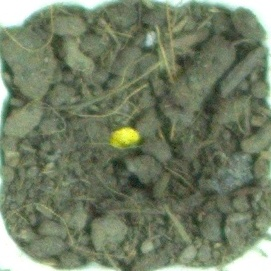pepper seed: (36, 49, 178, 201)
